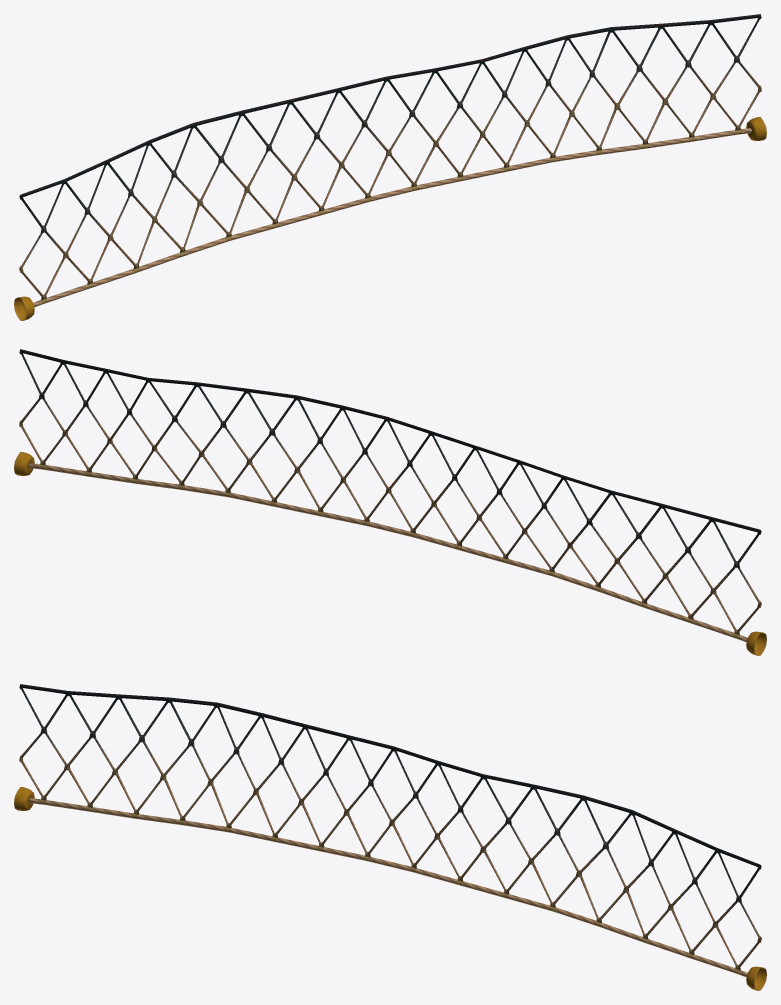
File: buoy-rope.glb
3 views of the same model, one above another, from view 1: azimuth 30°, elevation 25°; view 2: azimuth 150°, elevation 25°; view 3: azimuth 330°, elevation 25° (orthographic).
Visible parts, largest first — view 1: FldBuoyMain__FldBuoyRopeNH_node1; view 2: FldBuoyMain__FldBuoyRopeNH_node1; view 3: FldBuoyMain__FldBuoyRopeNH_node1.
Part boxes in pixels (x1,y1,x2,y2): FldBuoyMain__FldBuoyRopeNH_node1: [14, 14, 766, 320]; FldBuoyMain__FldBuoyRopeNH_node1: [14, 349, 766, 655]; FldBuoyMain__FldBuoyRopeNH_node1: [14, 684, 766, 990].
Size of the model in its own units: 8 by 1.56 by 0.3578.
1 material, 1 textured.
